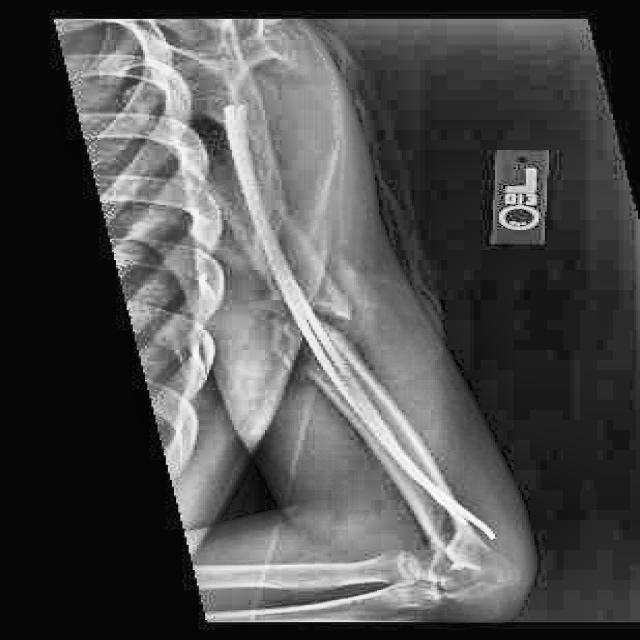humerus: (276, 280, 395, 362)
